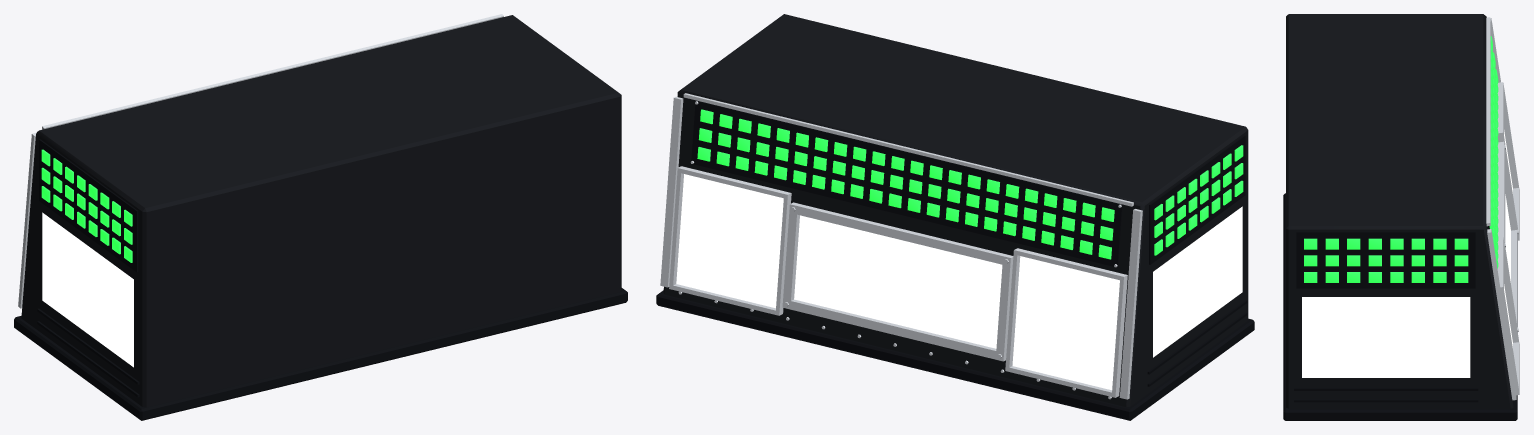
The model's file is deck_painted_wings.glb.
The picture shows the model from 3 angles, left to right: view 1: azimuth 30°, elevation 25°; view 2: azimuth 150°, elevation 25°; view 3: azimuth 270°, elevation 25°; orthographic projection. The views are drawn at different scales.
Visible parts, largest first — view 1: deck_painted_wings_deco_body, deck_painted_wings_deco_trim, deck_painted_wings_acrylic_art, deck_painted_wings_deco_led, deck_painted_wings_chrome; view 2: deck_painted_wings_deco_body, deck_painted_wings_deco_trim, deck_painted_wings_acrylic_art, deck_painted_wings_chrome, deck_painted_wings_acrylic_sign, deck_painted_wings_deco_led; view 3: deck_painted_wings_deco_body, deck_painted_wings_acrylic_art, deck_painted_wings_deco_trim, deck_painted_wings_chrome, deck_painted_wings_deco_led, deck_painted_wings_acrylic_sign.
Boxes of the visible parts, bbox=[...] form: deck_painted_wings_deco_body: bbox=[21, 15, 621, 407]; deck_painted_wings_deco_trim: bbox=[14, 139, 627, 420]; deck_painted_wings_acrylic_art: bbox=[42, 212, 133, 367]; deck_painted_wings_deco_led: bbox=[41, 149, 132, 262]; deck_painted_wings_chrome: bbox=[18, 14, 503, 308]; deck_painted_wings_deco_body: bbox=[663, 14, 1248, 407]; deck_painted_wings_deco_trim: bbox=[656, 100, 1254, 420]; deck_painted_wings_acrylic_art: bbox=[676, 174, 1242, 390]; deck_painted_wings_chrome: bbox=[660, 93, 1142, 399]; deck_painted_wings_acrylic_sign: bbox=[794, 215, 1002, 348]; deck_painted_wings_deco_led: bbox=[697, 109, 1243, 259]; deck_painted_wings_deco_body: bbox=[1286, 14, 1513, 408]; deck_painted_wings_acrylic_art: bbox=[1302, 130, 1512, 377]; deck_painted_wings_deco_trim: bbox=[1283, 193, 1517, 420]; deck_painted_wings_chrome: bbox=[1486, 17, 1519, 400]; deck_painted_wings_deco_led: bbox=[1304, 36, 1498, 282]; deck_painted_wings_acrylic_sign: bbox=[1505, 194, 1510, 282].
Bounding box in the file's own units: 2.14 × 0.88 × 0.9777.
